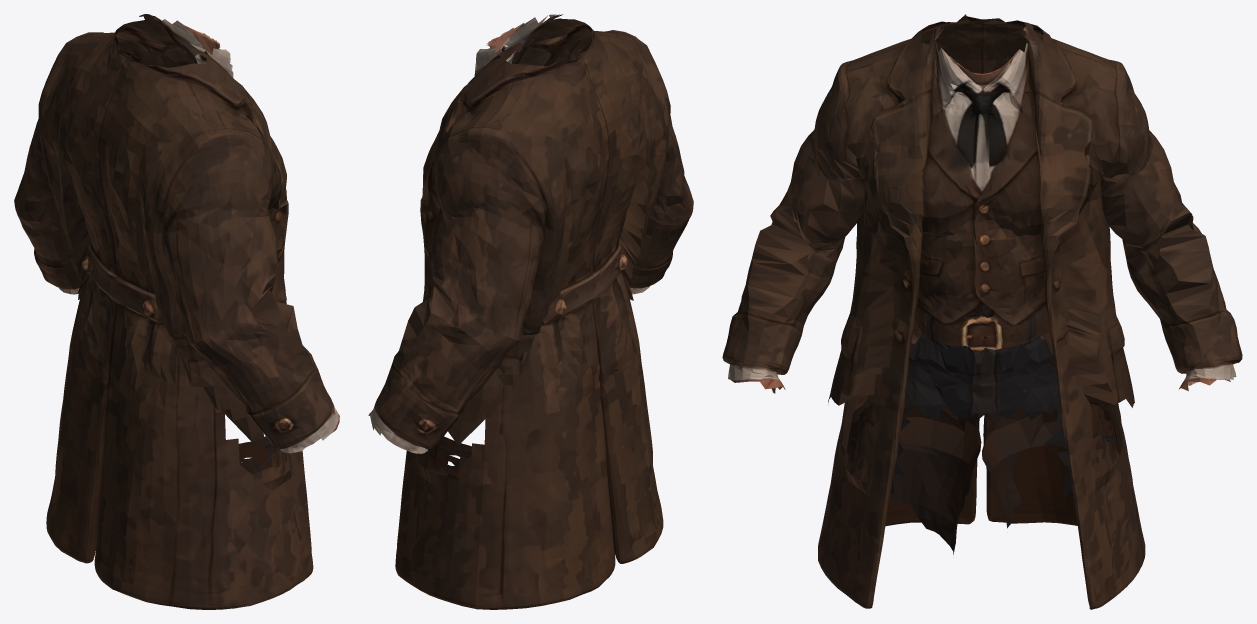
File: bold_cowboy_coat.glb
3 renders of one model, left to right at view 1: azimuth 30°, elevation 25°; view 2: azimuth 150°, elevation 25°; view 3: azimuth 270°, elevation 25°, orthographic. The views are drawn at different scales.
Visible parts, largest first — view 1: coat; view 2: coat; view 3: coat.
Part boxes in pixels (box(x1,y1,x2,y2)): coat: box(14, 14, 339, 609); coat: box(368, 14, 693, 609); coat: box(722, 14, 1242, 609).
Bounding box in the file's own units: 0.2006 × 0.5754 × 0.4995.
Materials: 1 (1 with a texture image).
